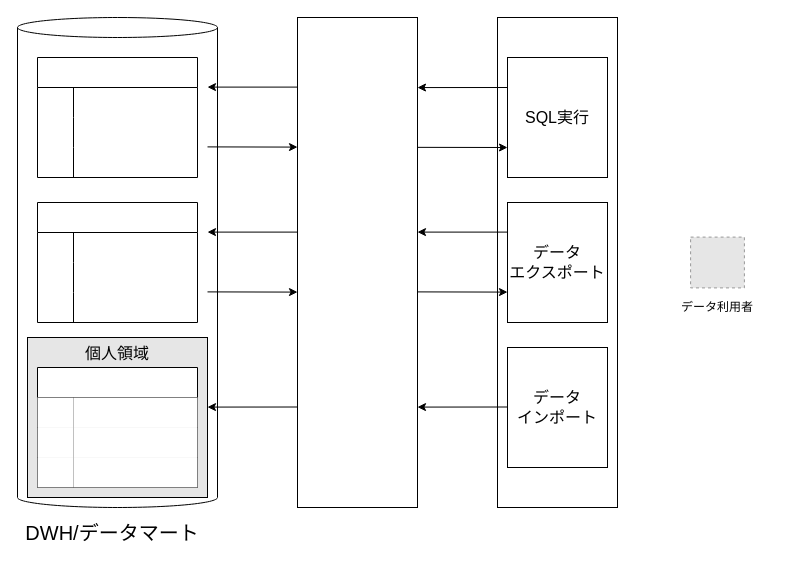
Some shapes in this 785 by 565 pixel diagram are drawn without their labels. Grey dashed boxes stand in for pictures. Each missing label, with the box of its shape:
アドホック 分析用 Webサイト: (296, 16, 418, 508)
ブラウザ: (496, 16, 618, 508)
